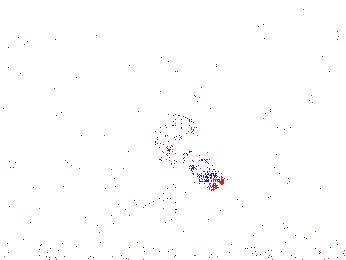flame jellyfish: (148, 112, 224, 189), (90, 171, 153, 227), (148, 169, 206, 226)
